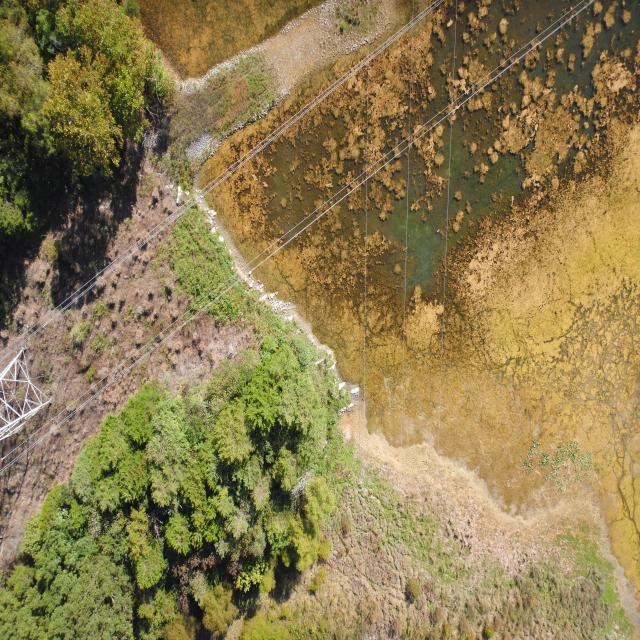Area of Interest: (2, 336, 330, 637), (11, 6, 152, 219)
